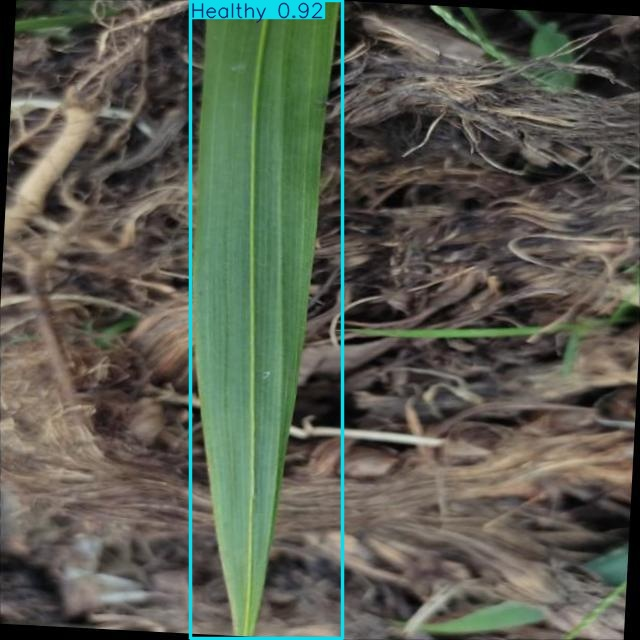Healthy: (191, 0, 342, 639)
